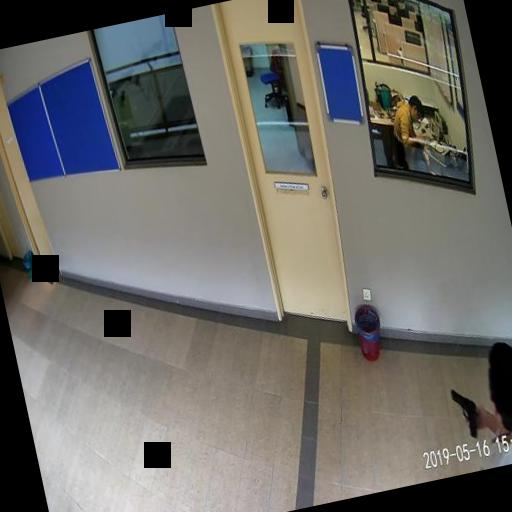Handgun: (448, 383, 481, 439)
